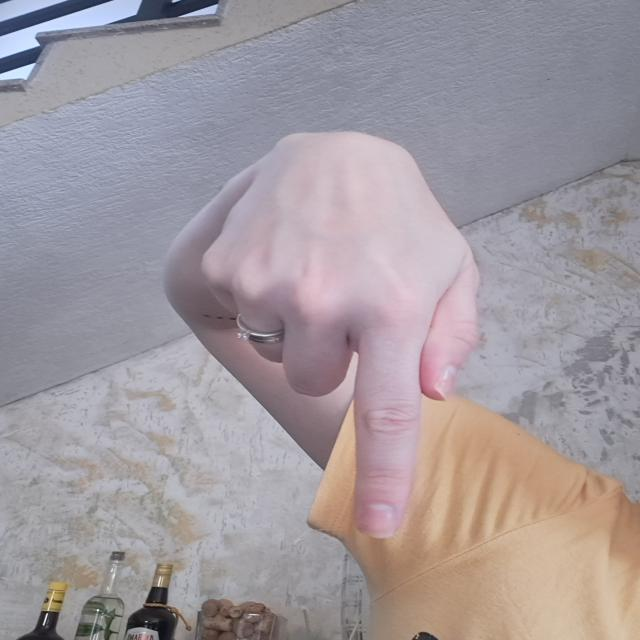Q: (202, 129, 478, 553)
